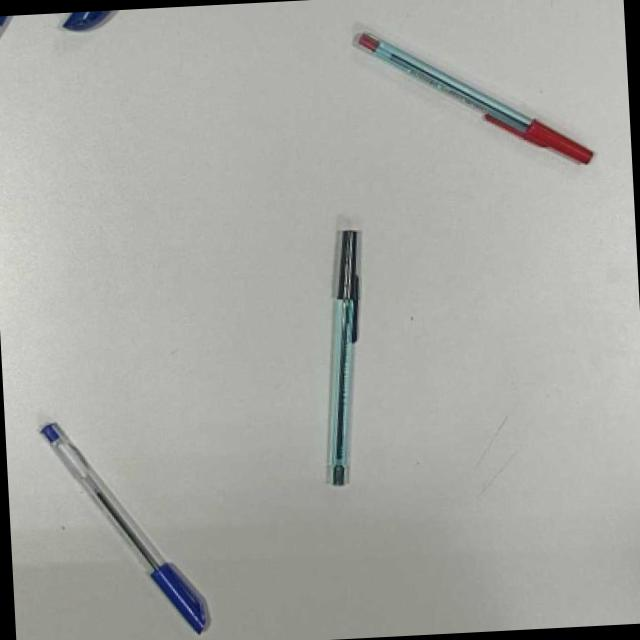caneta: (39, 419, 218, 636), (353, 32, 596, 170), (327, 229, 363, 486)
